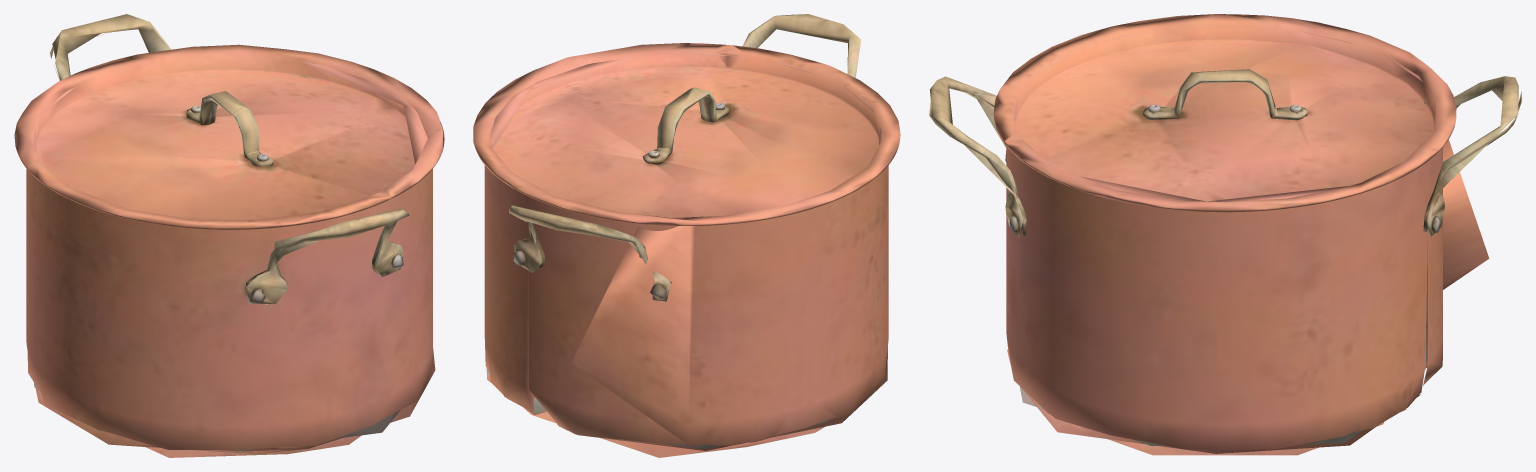
Rendered from cookware_pot_copper_d01.glb.
3 views of the same model, side by side, from view 1: azimuth 30°, elevation 25°; view 2: azimuth 150°, elevation 25°; view 3: azimuth 270°, elevation 25° (orthographic). The views are drawn at different scales.
Parts seen in each view (by area): view 1: sm_cookware_pot_copper_d01_01; view 2: sm_cookware_pot_copper_d01_01; view 3: sm_cookware_pot_copper_d01_01.
Boxes of the visible parts, x1,y1,x2,y2 form: sm_cookware_pot_copper_d01_01: [14, 14, 444, 457]; sm_cookware_pot_copper_d01_01: [473, 14, 900, 457]; sm_cookware_pot_copper_d01_01: [929, 14, 1521, 455].
Size of the model in its own units: 0.2646 by 0.218 by 0.3385.
4 materials, 4 textured.
